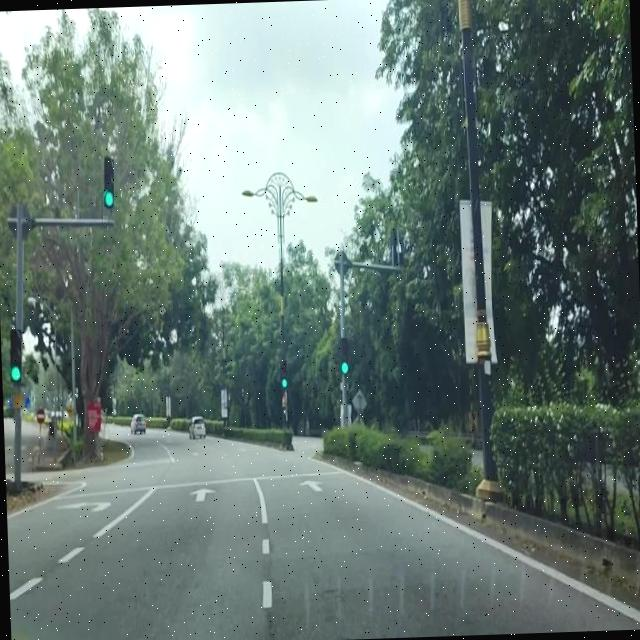green_light: (8, 328, 23, 382), (102, 155, 115, 207), (338, 336, 348, 374), (280, 359, 288, 388)
